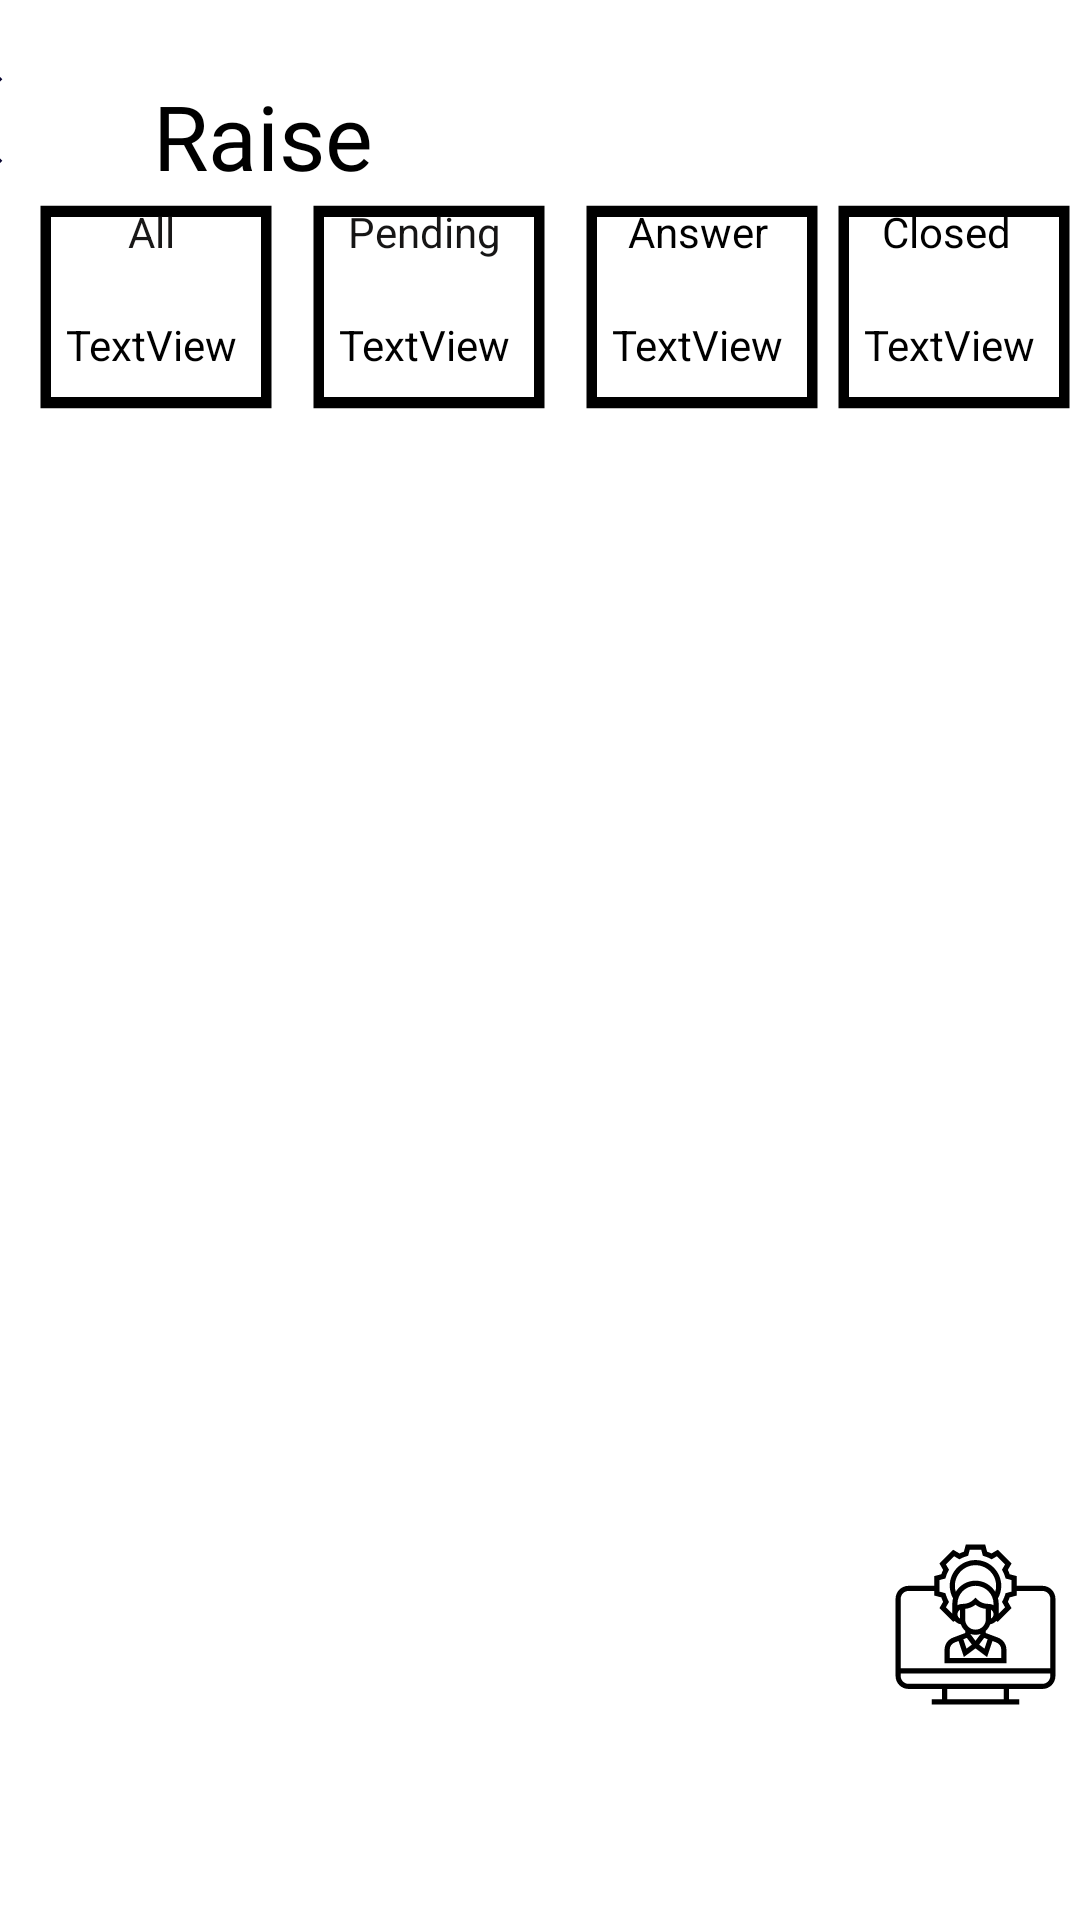

Icon click points for this 1080w x 1920h phone screenshot, format (x=x, y=y):
chatcomputer: (x=975, y=1624)
